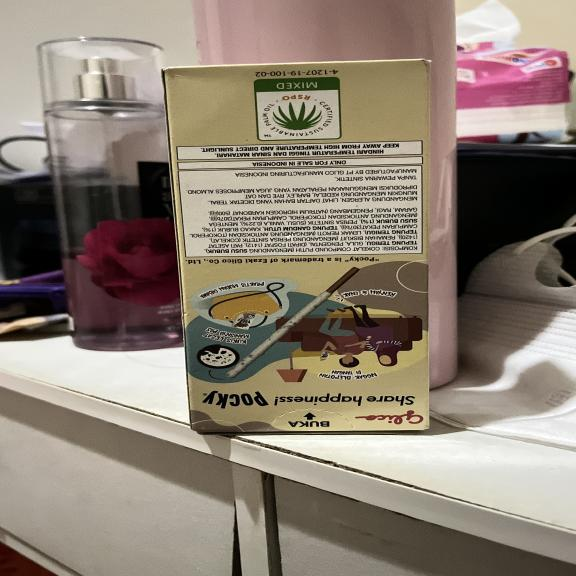Kertas: (165, 61, 434, 436)
